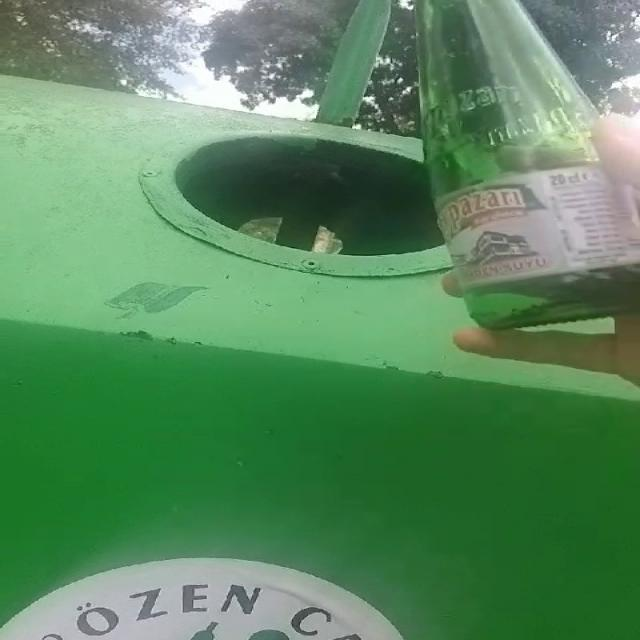glass: (419, 0, 639, 328)
